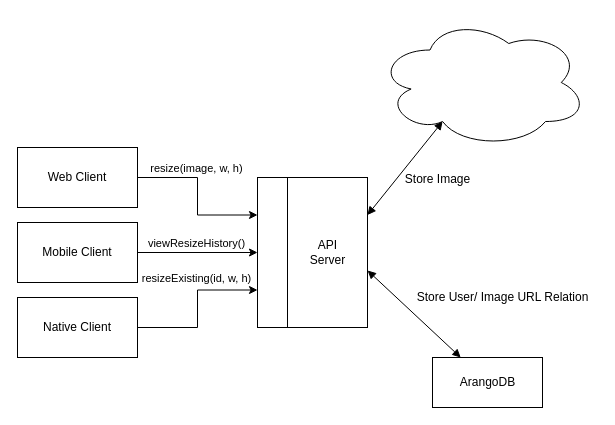
The diagram is 615 pixels wide and 425 high, and some of its shapes have lost their labels. Here are the shapes that lost their labels. From the top down, the box of each, then its label:
(376, 16, 588, 148): AWS S3 Bucket
(256, 176, 288, 328): GraphQL layer
